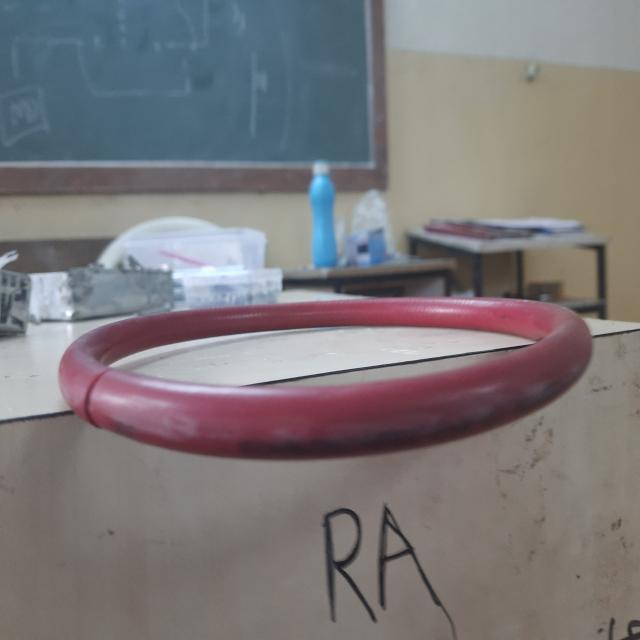daire: (65, 291, 590, 451)
